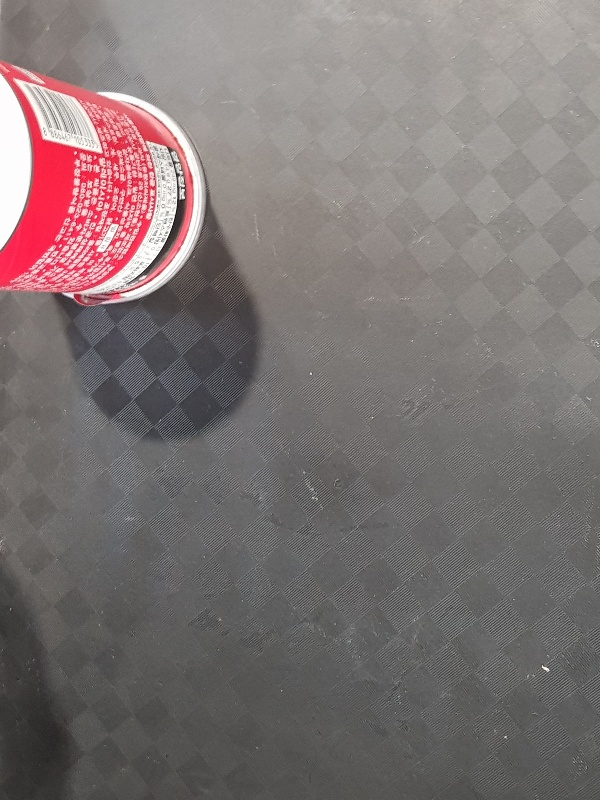Pringles Original: (1, 57, 207, 308)
